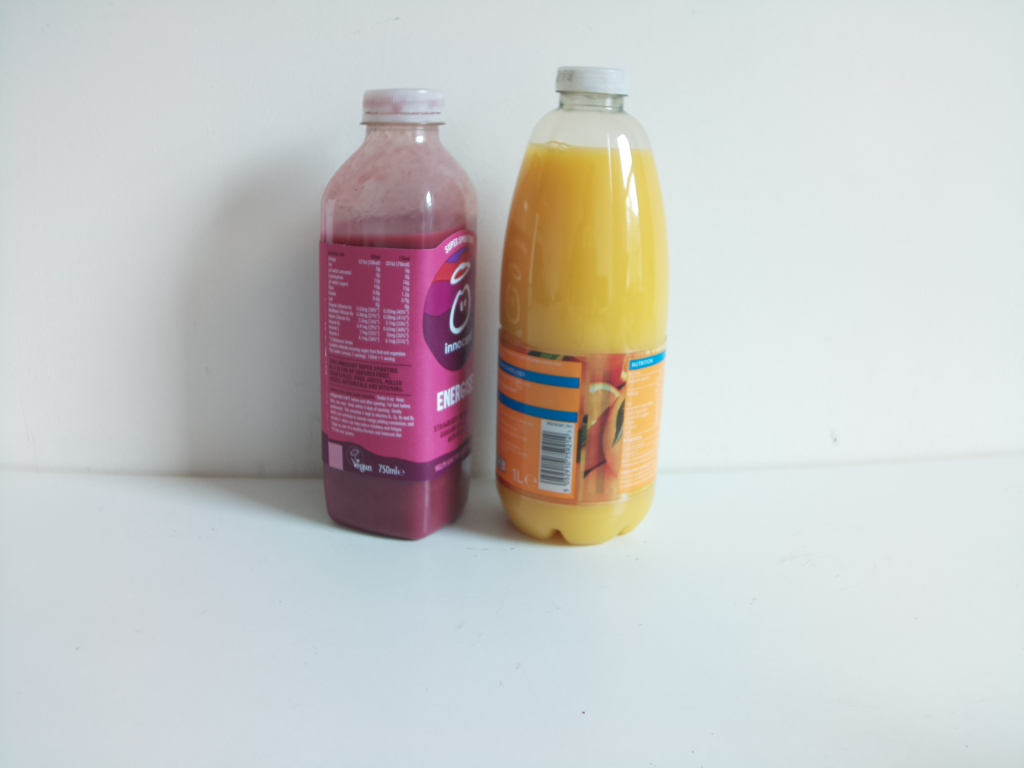juice: (494, 63, 675, 549), (305, 82, 484, 547)
